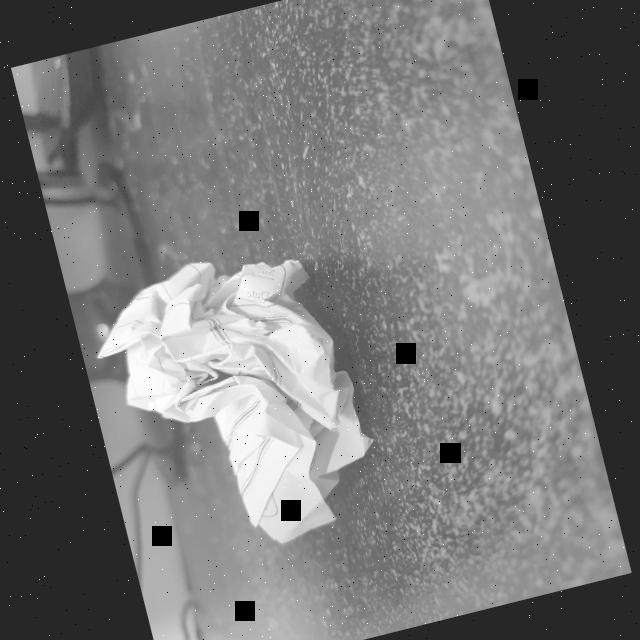scrap_paper: (73, 226, 400, 586)
